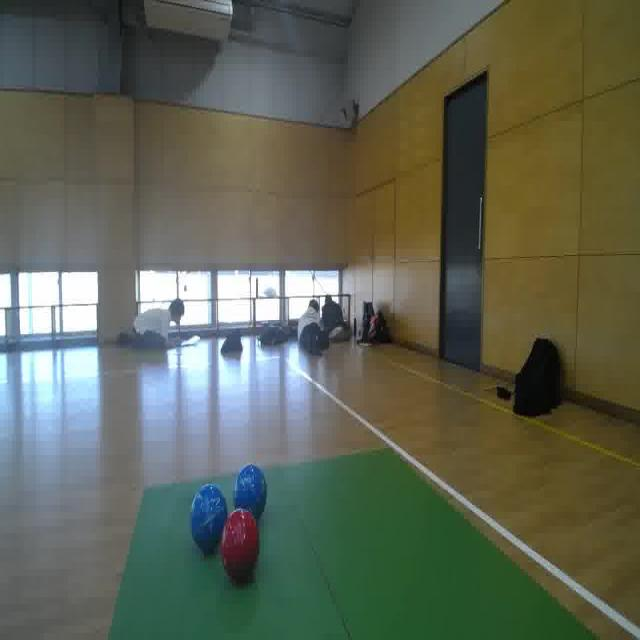blue_ball: (188, 485, 228, 554), (232, 462, 269, 524)
red_ball: (221, 505, 263, 586)
